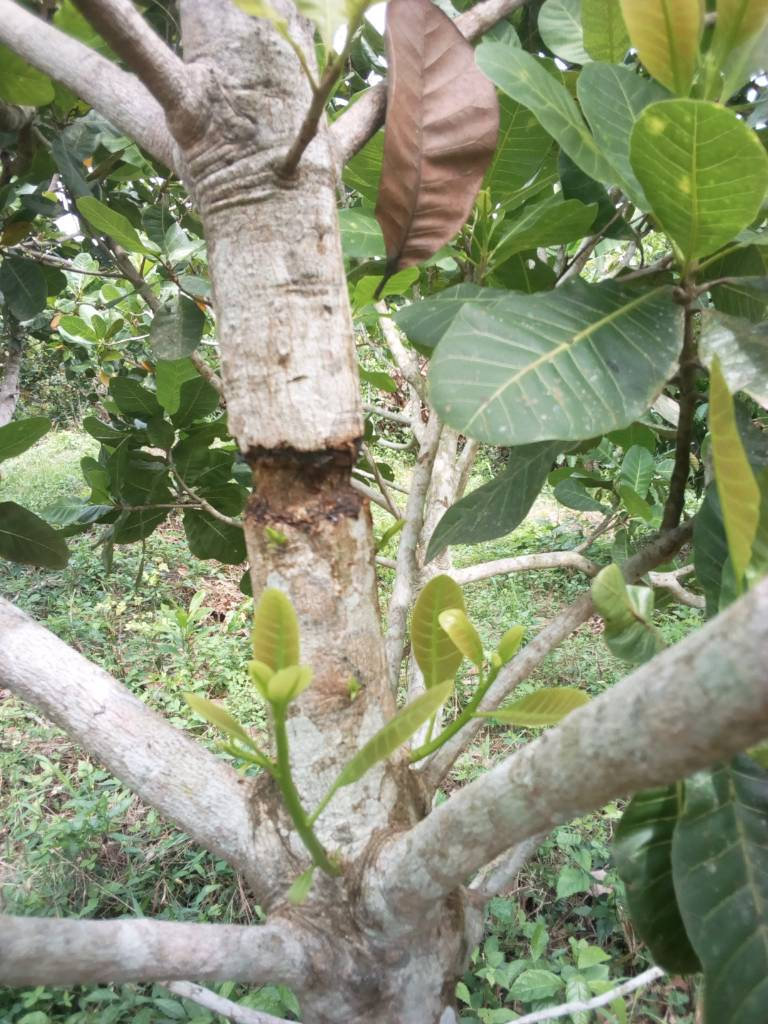Analepse trifasciata: (211, 416, 391, 535)
